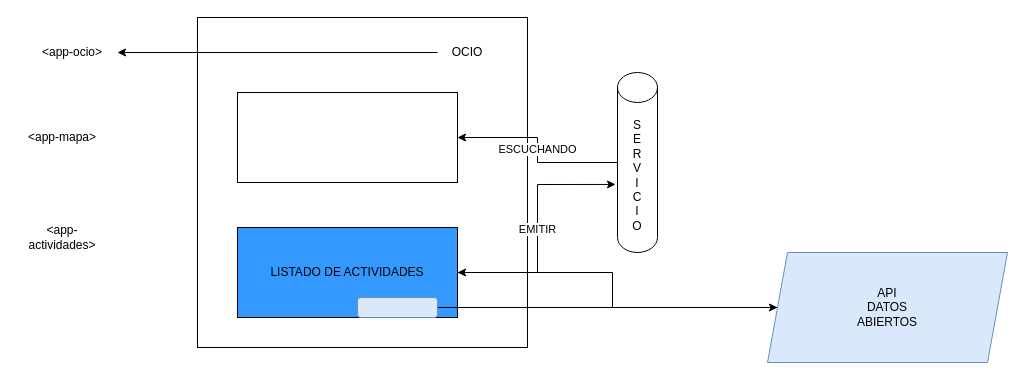
Some shapes in this 1025 by 380 pixel diagram are drawn without their labels. The shapes that lost their labels are listed below. From the top down, each one's box as (x1, y1, x2, y2) in pixels, then its label:
(236, 92, 458, 182): MAPA
(356, 296, 438, 318): DISTRITO
